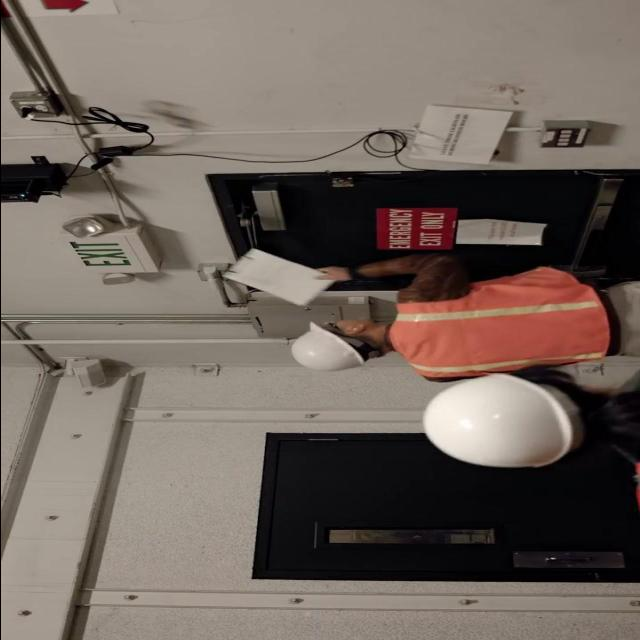helmet: (418, 373, 574, 472), (287, 314, 364, 380)
jacket: (376, 266, 616, 379)
